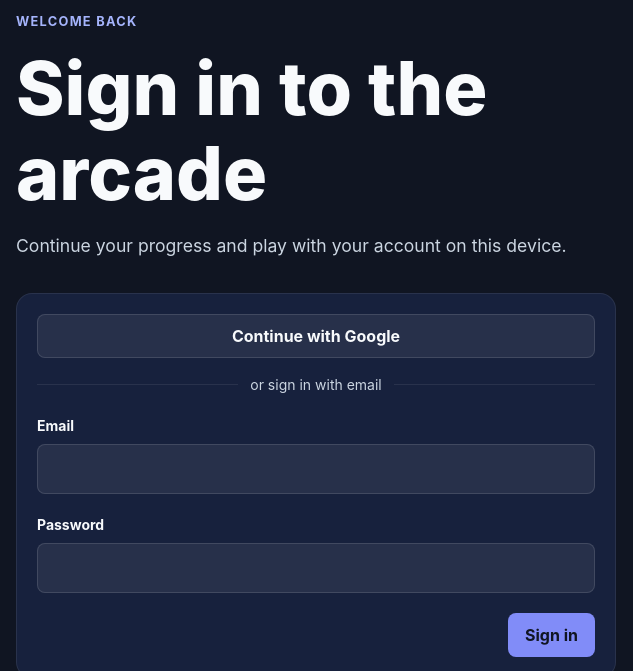
login page › shows required-field validation without sending a request
Check: the heading "Sign in to the arcade" is shown, box [16,44,487,218]
Check: the button "Continue with Google" is shown, box [37,314,595,358]
Click the button "Sign in" at (552, 635), box [508,613,595,657]
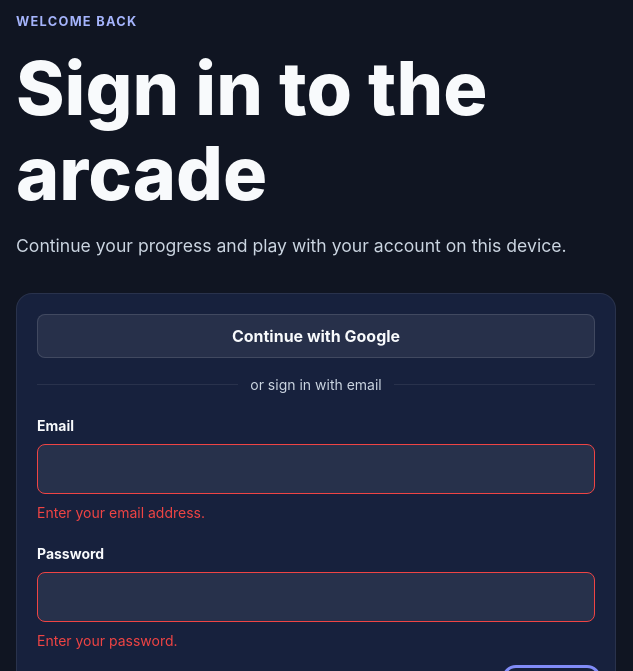
Check: the text "Enter your email address." is shown, box [37,504,205,521]
Check: the text "Enter your password." is shown, box [37,632,178,649]
